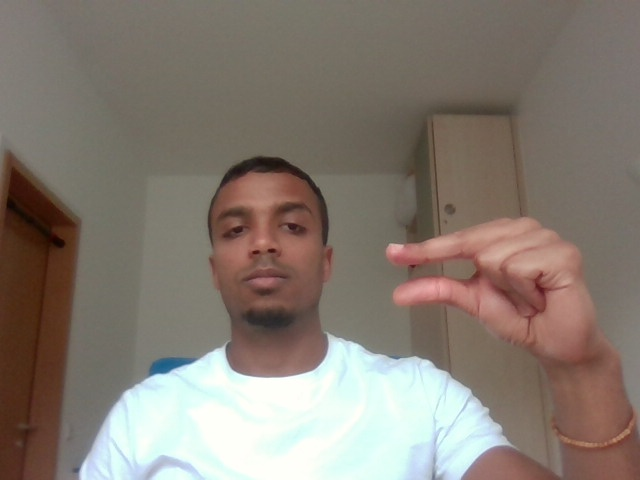never: (381, 198, 625, 379)
